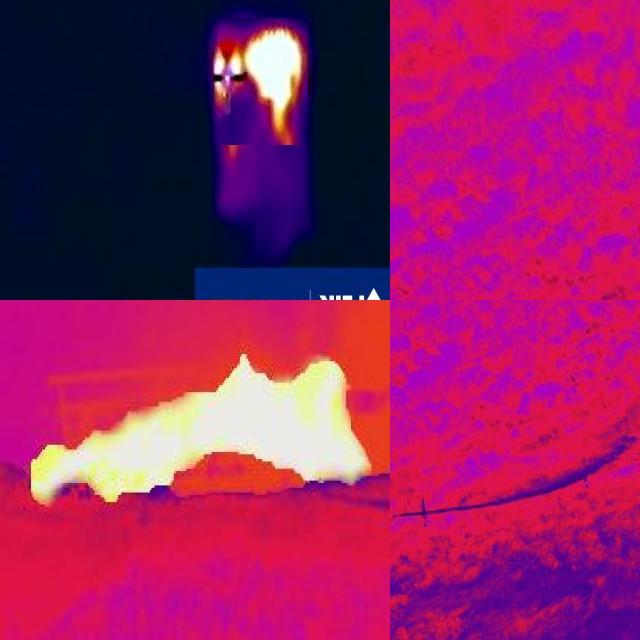fire: (28, 352, 374, 508), (213, 18, 308, 145)
